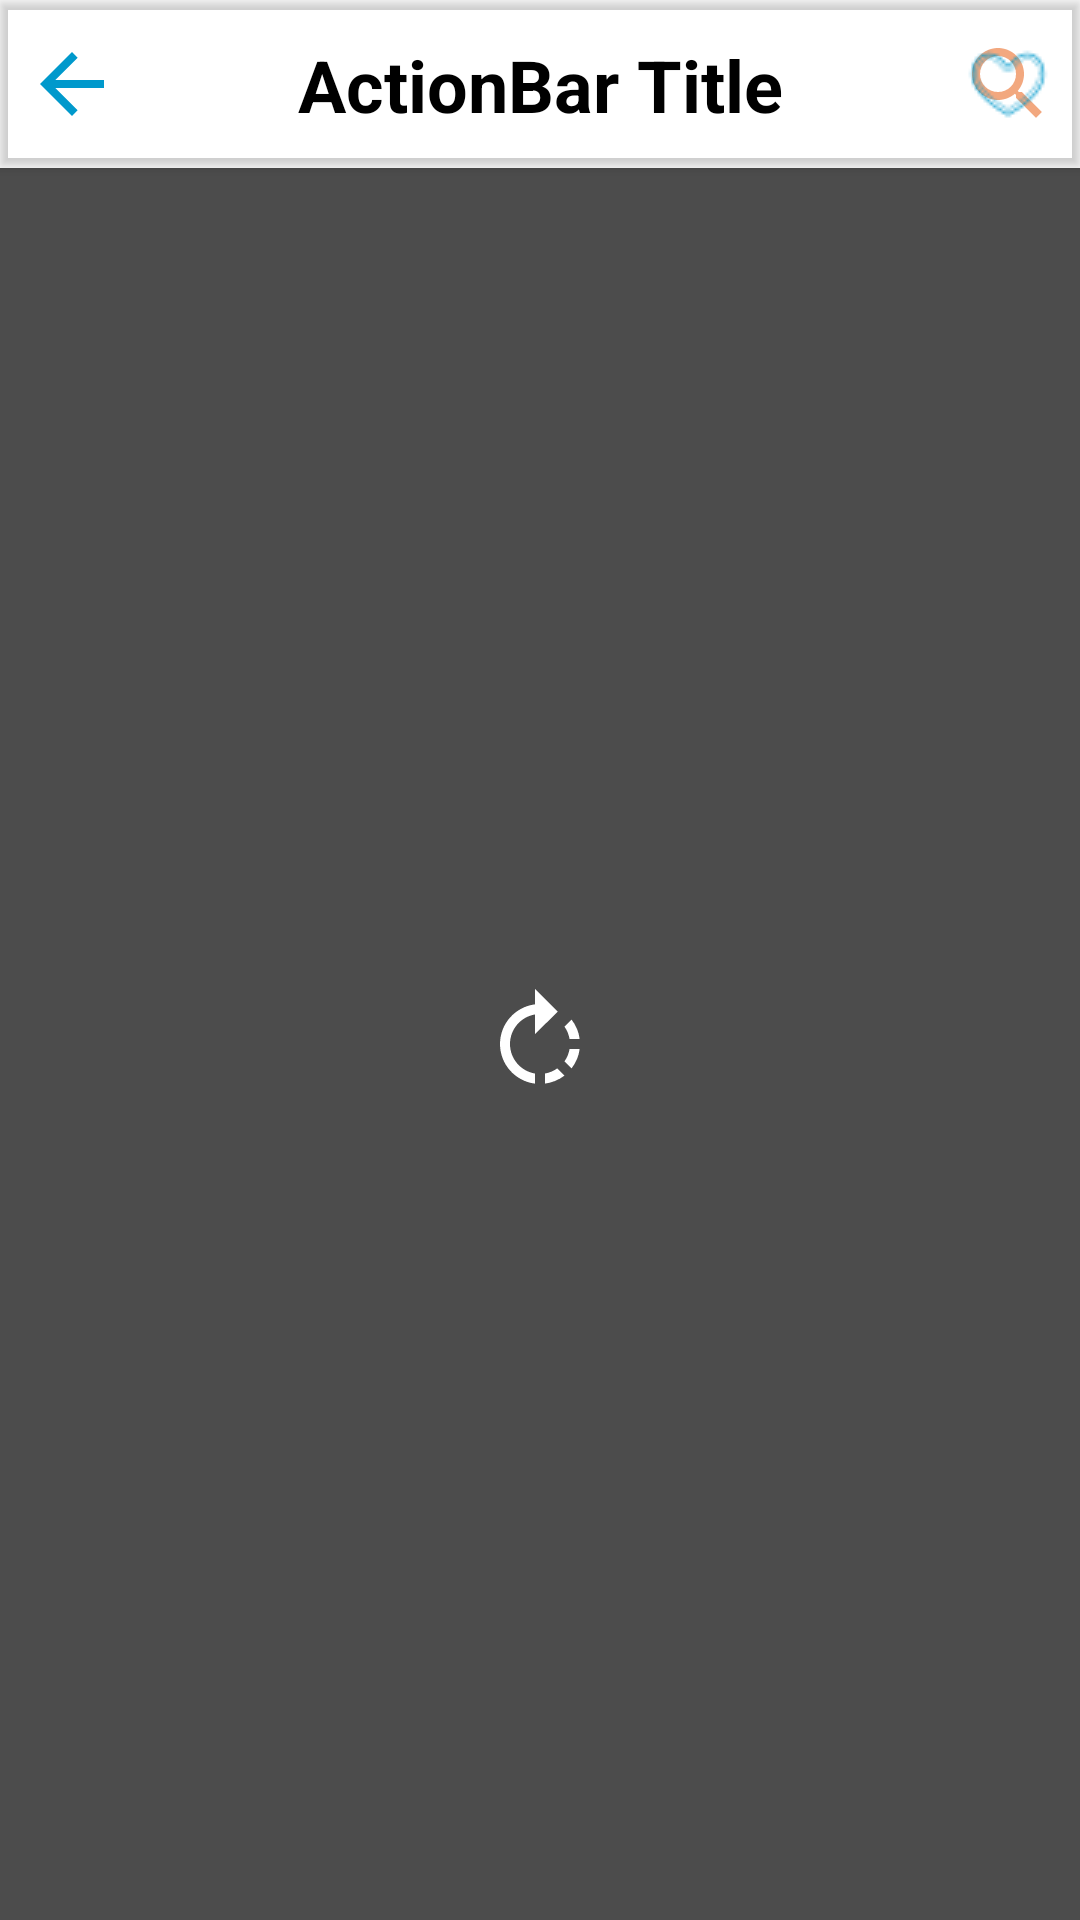

Screen size 1080w x 1920h. Icon name, then its center in pixels as (x=x, y=y):
back: (x=72, y=84)
rotate: (x=540, y=1036)
